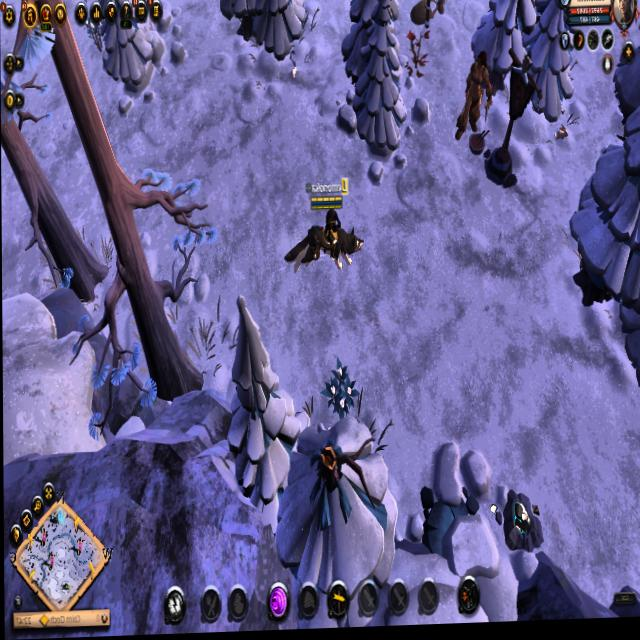fiber tier 4: (318, 362, 357, 433)
